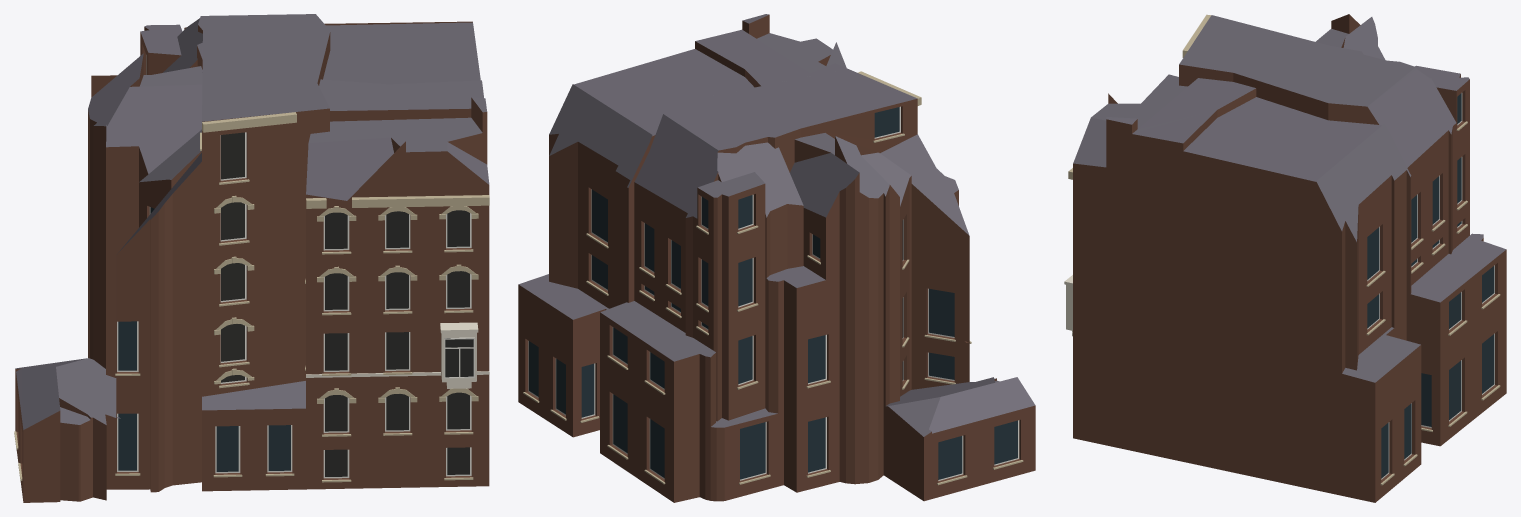
Rendered from recipe-large-koningslaan-28-237339.glb.
3 renders of one model, left to right at view 1: azimuth 30°, elevation 25°; view 2: azimuth 150°, elevation 25°; view 3: azimuth 270°, elevation 25°, orthographic. The views are drawn at different scales.
Visible parts, largest first — view 1: koningslaan-28-237339; view 2: koningslaan-28-237339; view 3: koningslaan-28-237339.
Boxes of the visible parts, x1,y1,x2,y2 form: koningslaan-28-237339: [14, 14, 489, 502]; koningslaan-28-237339: [518, 14, 1035, 502]; koningslaan-28-237339: [1064, 14, 1506, 502].
Size of the model in its own units: 28.2 by 19.48 by 23.12.
